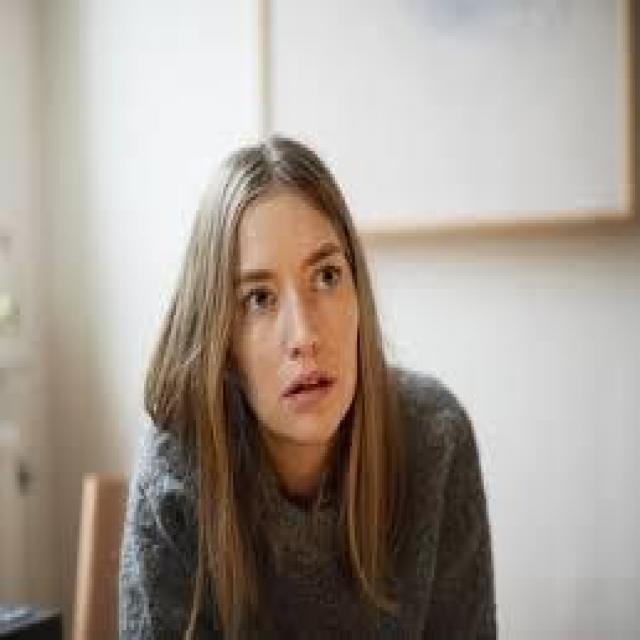person: (114, 131, 499, 637)
